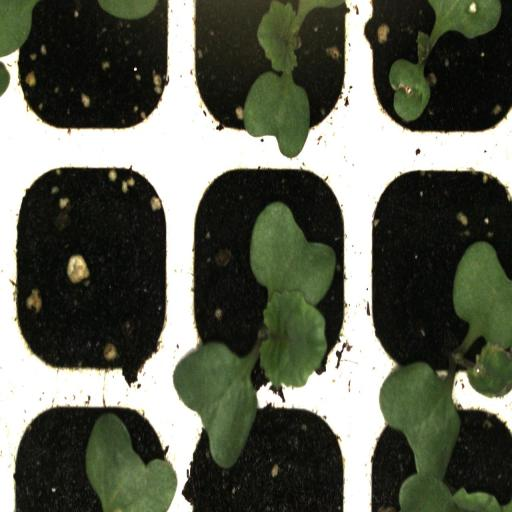Folha: (379, 362, 512, 512), (389, 0, 501, 122), (453, 241, 512, 399), (85, 413, 177, 512), (0, 0, 38, 58)
Germinacao: (177, 146, 358, 386), (357, 144, 512, 386), (179, 0, 357, 143)
